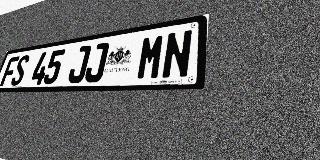4: (29, 51, 52, 85)
5: (42, 49, 66, 84)
F: (0, 56, 20, 86)
J: (83, 42, 110, 83), (66, 45, 92, 83)
M: (136, 33, 166, 80)
N: (161, 29, 193, 79)
S: (10, 54, 31, 86)
